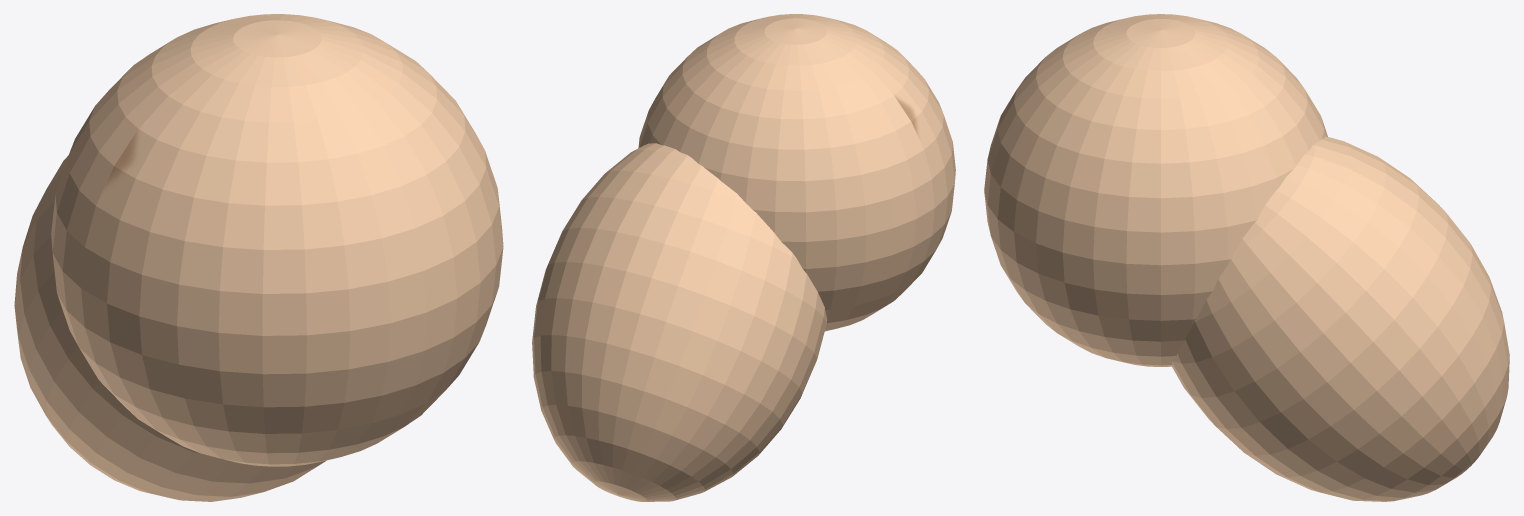
The model's file is BicepDer_Arbitro.obj.
The picture shows the model from 3 angles, left to right: view 1: azimuth 30°, elevation 25°; view 2: azimuth 150°, elevation 25°; view 3: azimuth 270°, elevation 25°; orthographic projection. The views are drawn at different scales.
Visible parts, largest first — view 1: BicepDer_Arbitro; view 2: BicepDer_Arbitro; view 3: BicepDer_Arbitro.
Boxes of the visible parts, x1,y1,x2,y2 form: BicepDer_Arbitro: (14,14,503,501); BicepDer_Arbitro: (532,14,955,501); BicepDer_Arbitro: (984,14,1509,501).
Bounding box in the file's own units: 1.27 × 1.6 × 1.74.
1 material, 1 textured.
